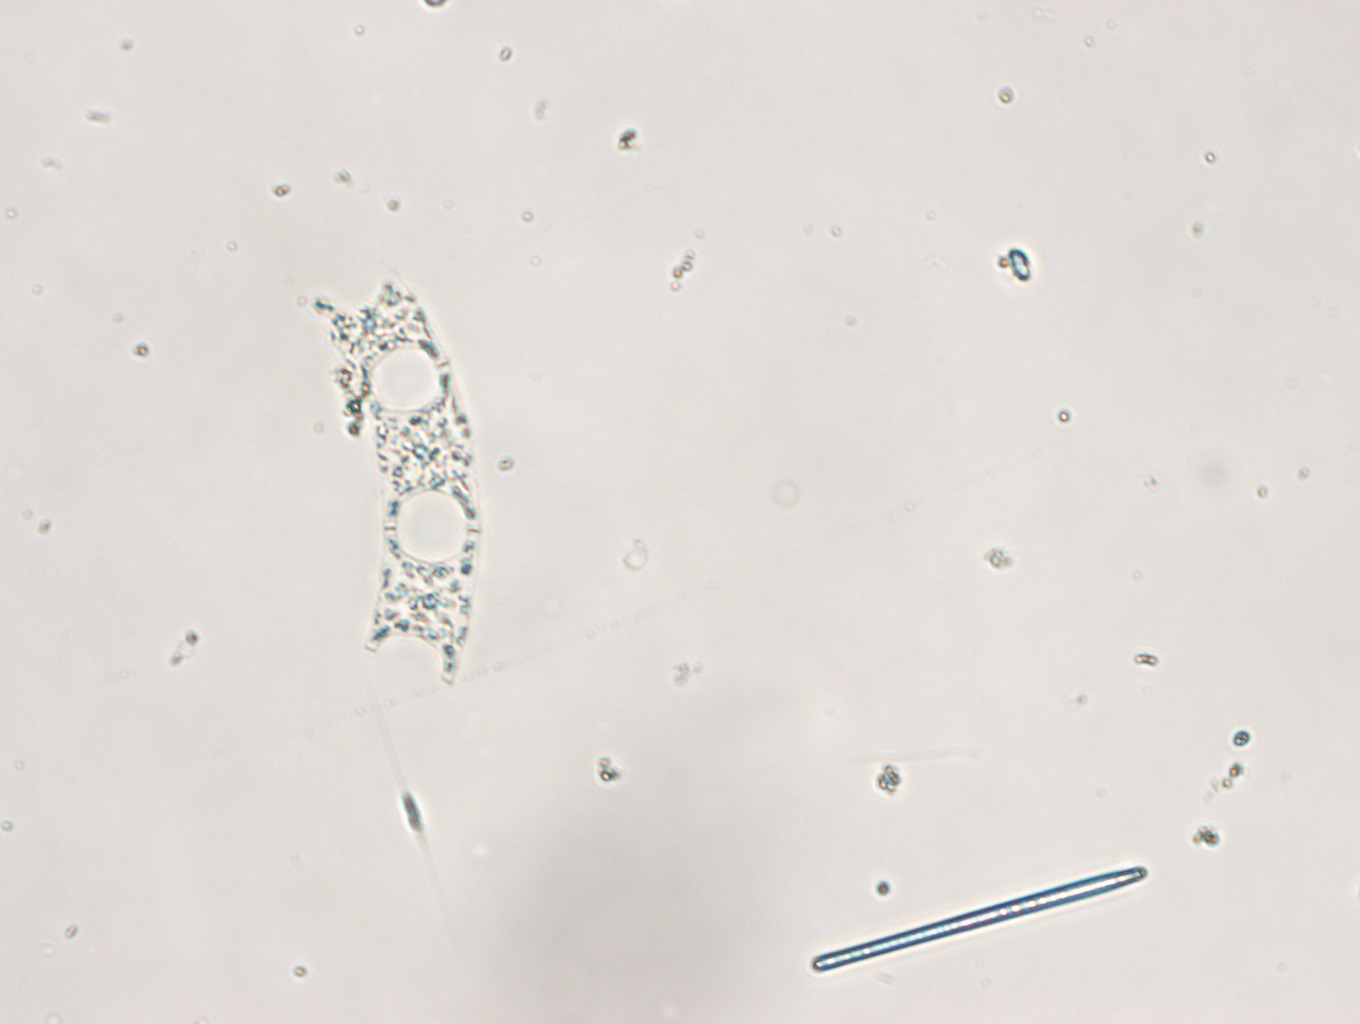eucampia: (303, 301, 487, 685)
